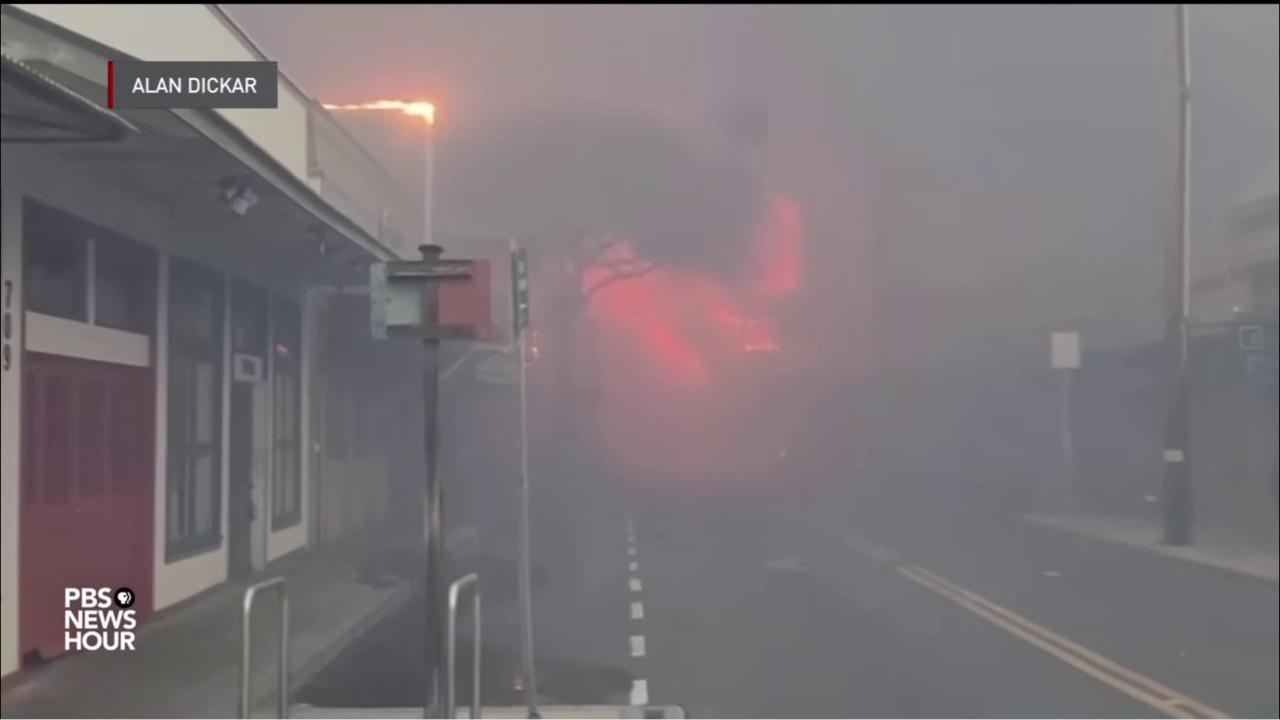fire: (577, 194, 802, 397), (316, 98, 437, 127)
smoke: (1, 4, 1280, 720)
